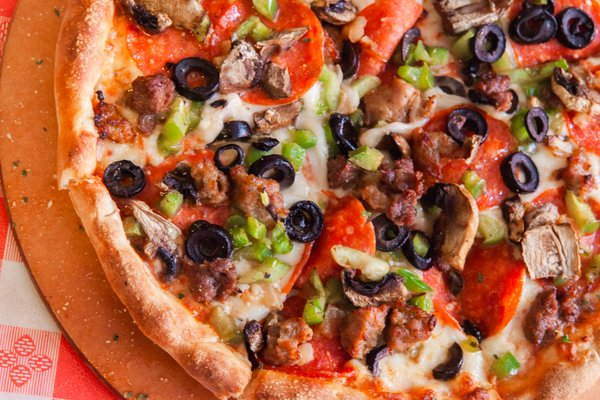sandwich: (4, 0, 600, 395)
